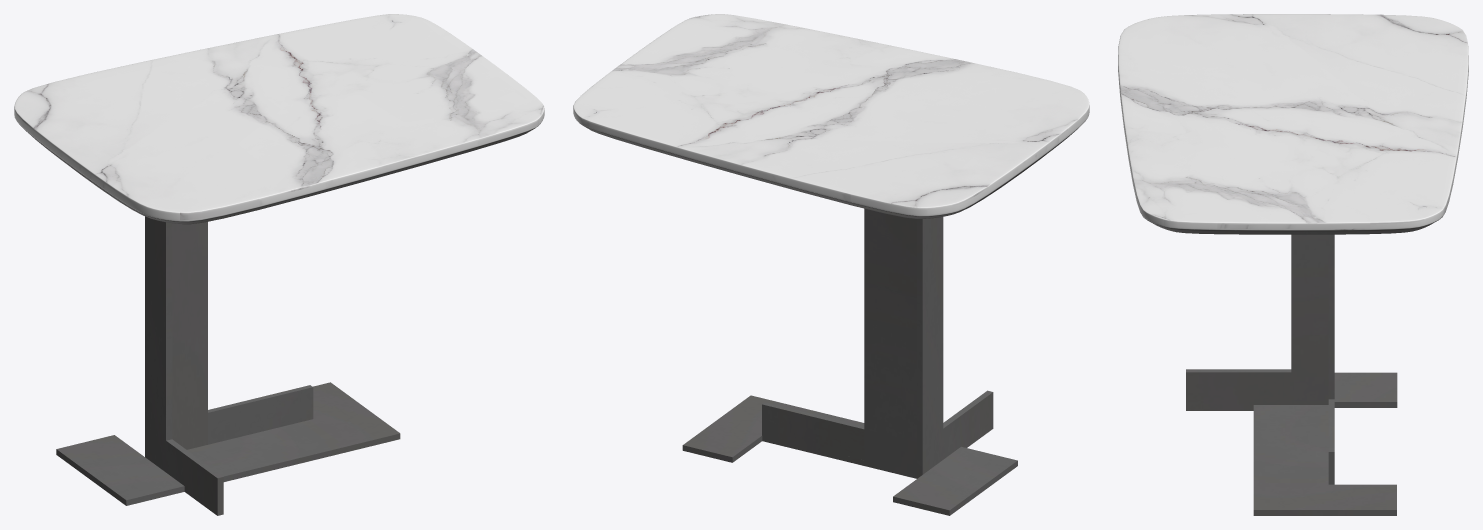
The model's file is SLN_SUREFOOTED_A.glb.
The picture shows the model from 3 angles, left to right: view 1: azimuth 30°, elevation 25°; view 2: azimuth 150°, elevation 25°; view 3: azimuth 270°, elevation 25°; orthographic projection. The views are drawn at different scales.
Parts seen in each view (by area): view 1: Surefooted_A; view 2: Surefooted_A; view 3: Surefooted_A.
Part boxes in pixels (<box>): Surefooted_A: <box>14,14,544,515</box>; Surefooted_A: <box>573,14,1089,515</box>; Surefooted_A: <box>1118,14,1468,515</box>.
Bounding box in the file's own units: 0.4237 × 0.3319 × 0.3025.
Materials: 2 (2 with a texture image).
